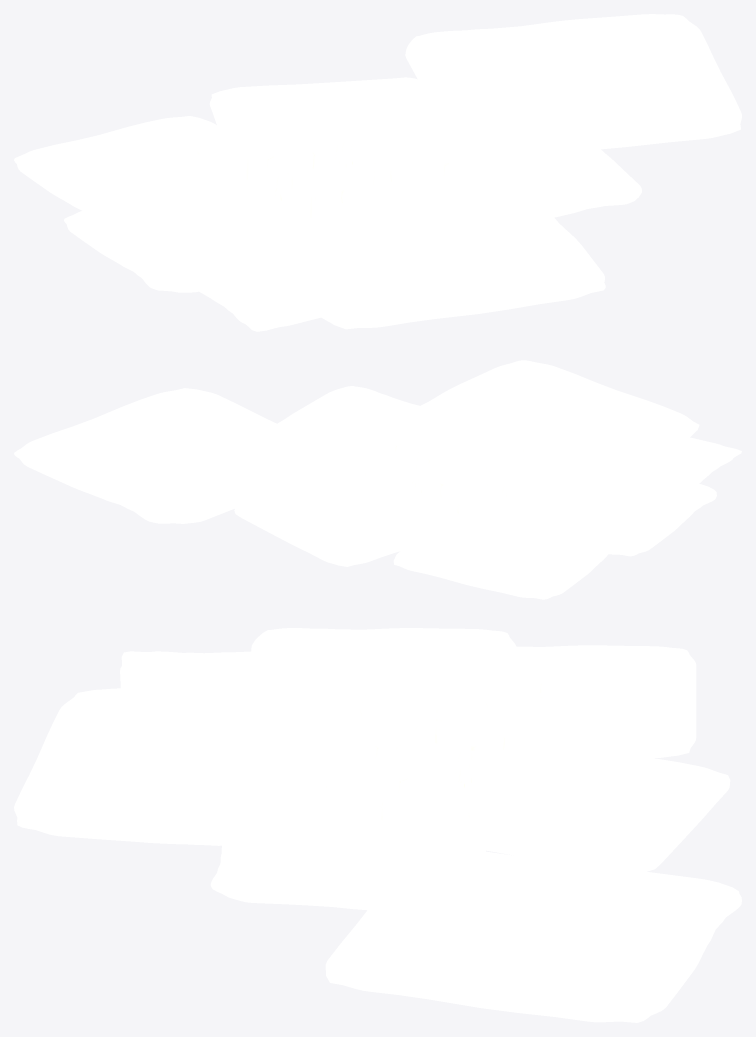
The model's file is NatureStage.glb.
The picture shows the model from 3 angles, top to bottom: view 1: azimuth 30°, elevation 25°; view 2: azimuth 150°, elevation 25°; view 3: azimuth 270°, elevation 25°; orthographic projection. The views are drawn at different scales.
Parts seen in each view (by area): view 1: Ground_01__2_, Ground_01.001, Ground_02__1_, Ground_02, Ground_03__2_, Ground_03, Tree_03__5_, Tree_03, Tree_03__3_; view 2: Ground_01__2_, Ground_01.001, Ground_02__1_, Ground_02, Ground_03__2_, Ground_03, Tree_03__5_, Rock_03__2_; view 3: Ground_01__2_, Ground_01.001, Ground_02__1_, Ground_02, Ground_03__2_, Ground_03, Tree_03__5_, Rock_03__2_, Tree_03__2_, Tree_03__1_, Tree_03__3_.
Part boxes in pixels (x1=…): Ground_01__2_: x1=393, y1=14, x2=741, y2=217; Ground_01.001: x1=64, y1=187, x2=605, y2=329; Ground_02__1_: x1=209, y1=77, x2=449, y2=174; Ground_02: x1=14, y1=116, x2=253, y2=210; Ground_03__2_: x1=199, y1=216, x2=349, y2=331; Ground_03: x1=245, y1=156, x2=424, y2=218; Tree_03__5_: x1=297, y1=120, x2=332, y2=170; Tree_03: x1=328, y1=167, x2=356, y2=203; Tree_03__3_: x1=256, y1=135, x2=281, y2=169; Ground_01__2_: x1=14, y1=386, x2=445, y2=523; Ground_01.001: x1=392, y1=360, x2=716, y2=556; Ground_02__1_: x1=234, y1=470, x2=468, y2=566; Ground_02: x1=393, y1=513, x2=608, y2=599; Ground_03__2_: x1=525, y1=436, x2=741, y2=492; Ground_03: x1=392, y1=457, x2=528, y2=516; Tree_03__5_: x1=424, y1=454, x2=459, y2=498; Rock_03__2_: x1=453, y1=516, x2=488, y2=537; Ground_01__2_: x1=210, y1=801, x2=741, y2=1022; Ground_01.001: x1=14, y1=628, x2=516, y2=849; Ground_02__1_: x1=456, y1=741, x2=730, y2=871; Ground_02: x1=481, y1=645, x2=696, y2=758; Ground_03__2_: x1=120, y1=651, x2=366, y2=739; Ground_03: x1=343, y1=727, x2=503, y2=805; Tree_03__5_: x1=450, y1=708, x2=493, y2=759; Rock_03__2_: x1=528, y1=705, x2=573, y2=742; Tree_03__2_: x1=366, y1=780, x2=400, y2=820; Tree_03__1_: x1=387, y1=753, x2=417, y2=793; Tree_03__3_: x1=491, y1=709, x2=521, y2=749.
Size of the model in its own units: 10425 by 904 by 8162.
Materials: 1 (1 with a texture image).
